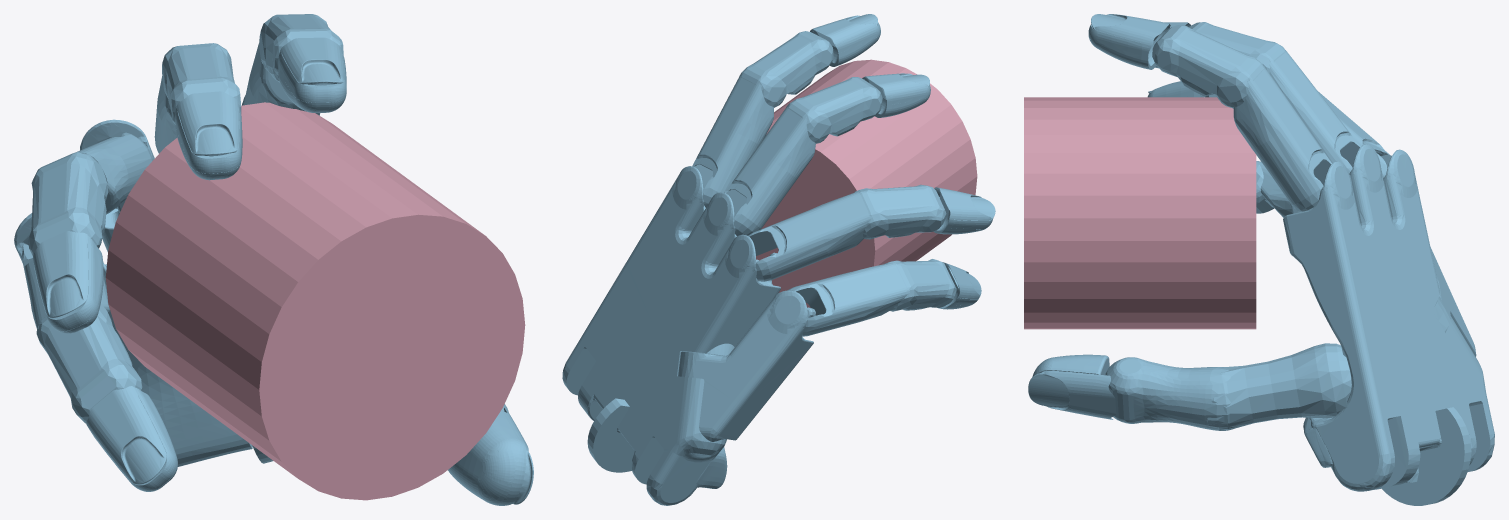
The picture shows the model from 3 angles, left to right: view 1: azimuth 30°, elevation 25°; view 2: azimuth 150°, elevation 25°; view 3: azimuth 270°, elevation 25°; orthographic projection. The views are drawn at different scales.
Parts seen in each view (by area): view 1: cylinder_medium.stl, world; view 2: world, cylinder_medium.stl; view 3: world, cylinder_medium.stl.
Boxes of the visible parts, bbox=[...] form: cylinder_medium.stl: bbox=[105, 102, 525, 500]; world: bbox=[14, 14, 533, 505]; world: bbox=[562, 14, 995, 505]; cylinder_medium.stl: bbox=[756, 59, 977, 307]; world: bbox=[1028, 14, 1494, 505]; cylinder_medium.stl: bbox=[1024, 97, 1256, 329].
Size of the model in its own units: 0.1513 by 0.1648 by 0.1621.
